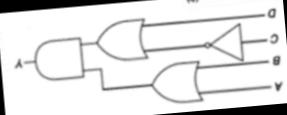and: (29, 34, 88, 84)
not: (200, 20, 246, 65)
or: (146, 57, 206, 108), (90, 16, 150, 66)
